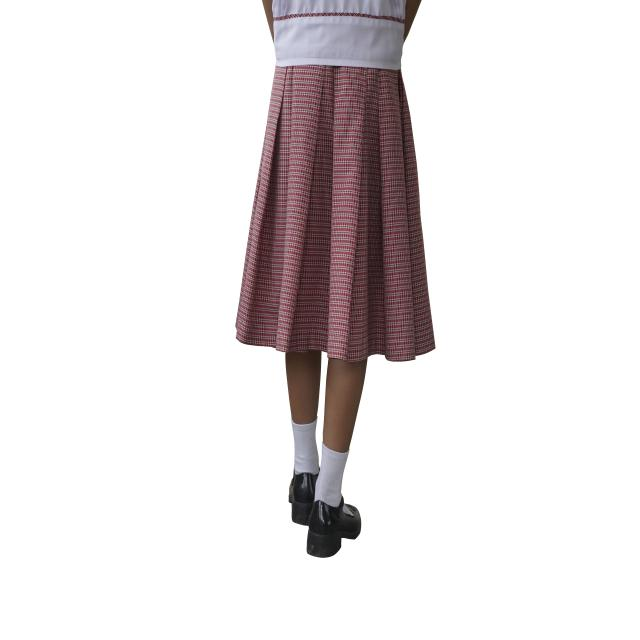pologirl: (272, 0, 406, 70)
shoes: (289, 473, 361, 557)
skirt: (236, 66, 435, 361)
